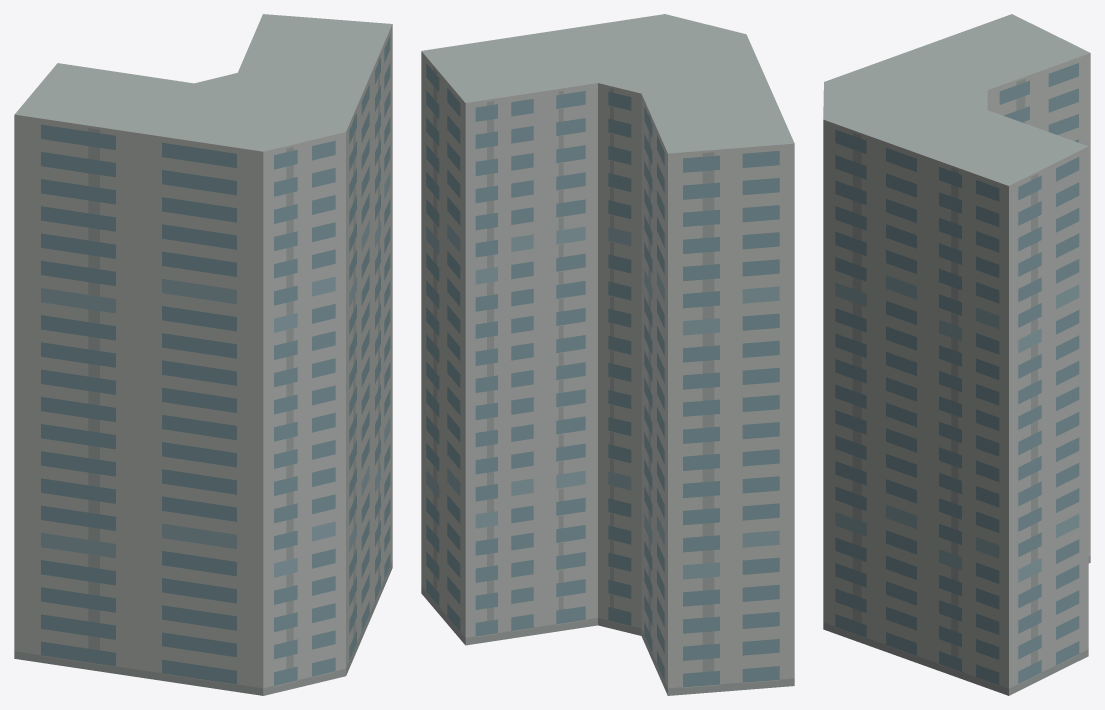
Rendered from residential-646fb7ed-9f1b-4d38-91d8-4a6ffc39b177.glb.
3 renders of one model, left to right at view 1: azimuth 30°, elevation 25°; view 2: azimuth 150°, elevation 25°; view 3: azimuth 270°, elevation 25°, orthographic. The views are drawn at different scales.
Visible parts, largest first — view 1: residential-646fb7ed-9f1b-4d38-91d8-4a6ffc39b177.tmp; view 2: residential-646fb7ed-9f1b-4d38-91d8-4a6ffc39b177.tmp; view 3: residential-646fb7ed-9f1b-4d38-91d8-4a6ffc39b177.tmp.
Boxes of the visible parts, x1,y1,x2,y2 form: residential-646fb7ed-9f1b-4d38-91d8-4a6ffc39b177.tmp: [14, 14, 392, 695]; residential-646fb7ed-9f1b-4d38-91d8-4a6ffc39b177.tmp: [421, 14, 794, 695]; residential-646fb7ed-9f1b-4d38-91d8-4a6ffc39b177.tmp: [823, 14, 1090, 695].
Size of the model in its own units: 41.26 by 57 by 27.12.
